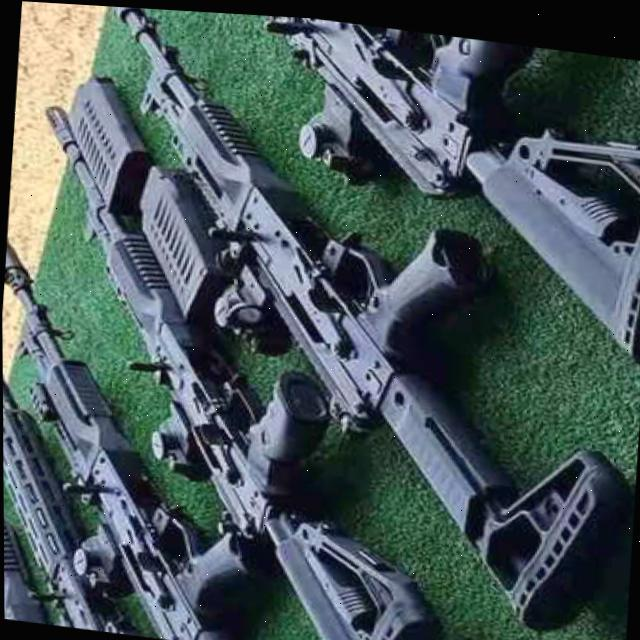firearm: (61, 3, 640, 631), (7, 98, 471, 640), (231, 11, 640, 361), (1, 232, 286, 640), (2, 366, 139, 632)
